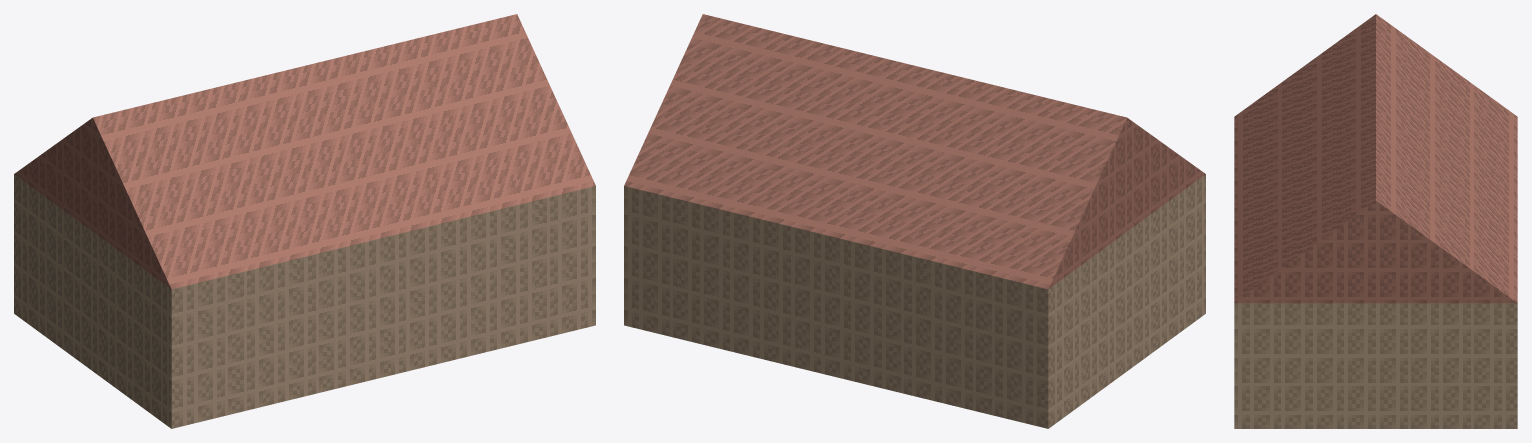
Rendered from barn.glb.
The picture shows the model from 3 angles, left to right: view 1: azimuth 30°, elevation 25°; view 2: azimuth 150°, elevation 25°; view 3: azimuth 270°, elevation 25°; orthographic projection. The views are drawn at different scales.
Size of the model in its own units: 14 by 8 by 9.
2 materials, 2 textured.
